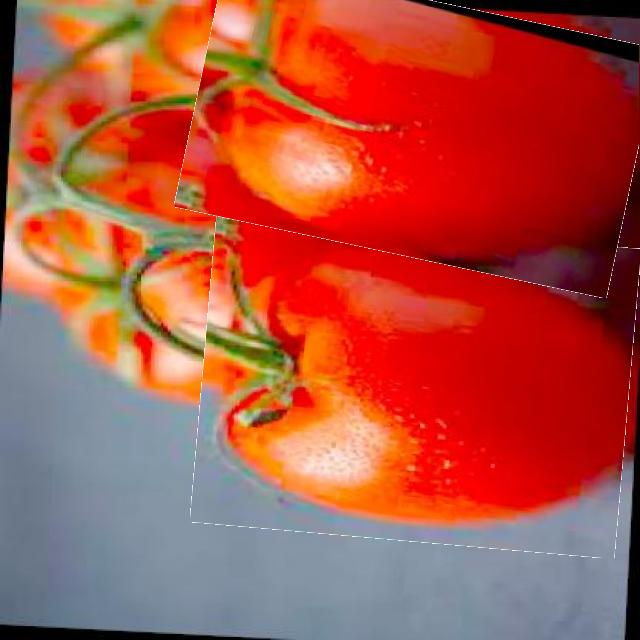tomato: (196, 221, 635, 550), (185, 0, 640, 276)
